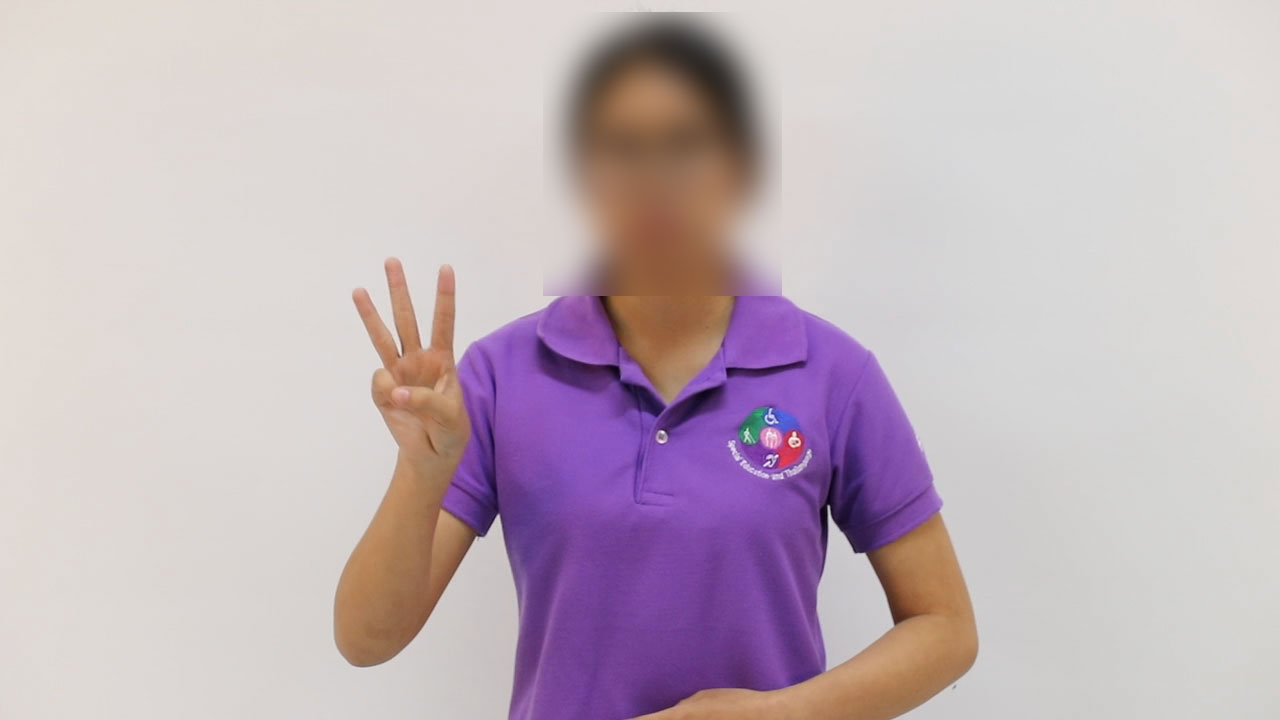wor: (347, 246, 479, 485)
